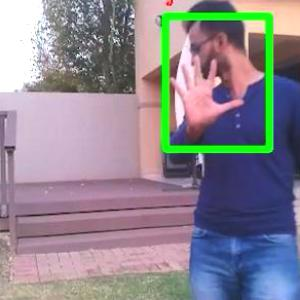follow_hand: (167, 50, 244, 133)
